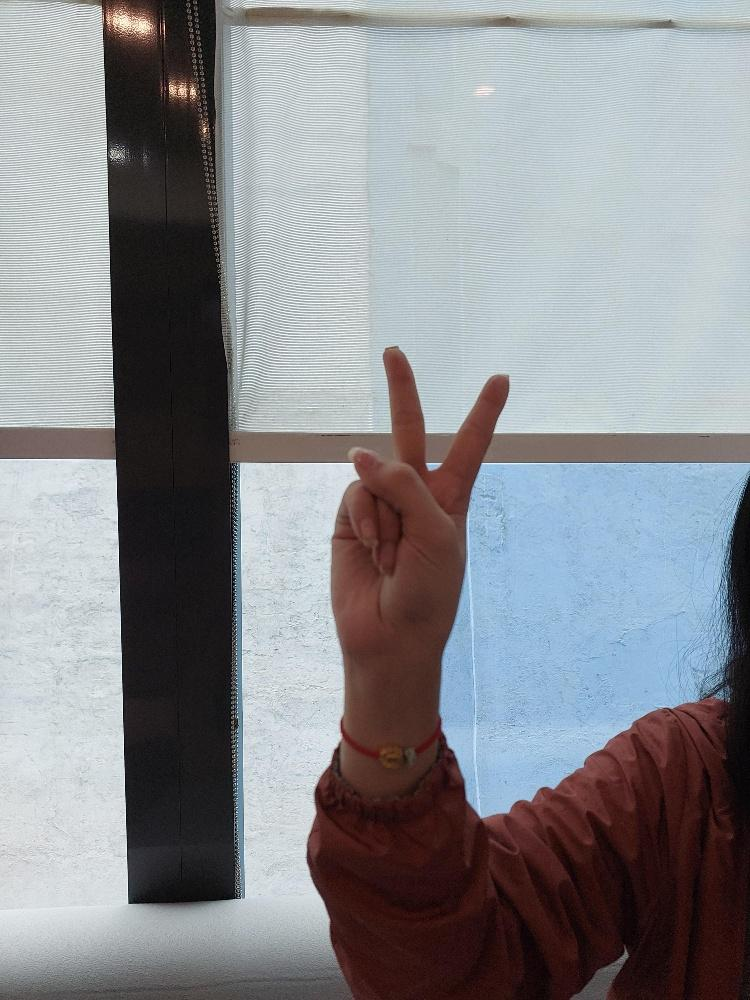v: (329, 341, 511, 659)
